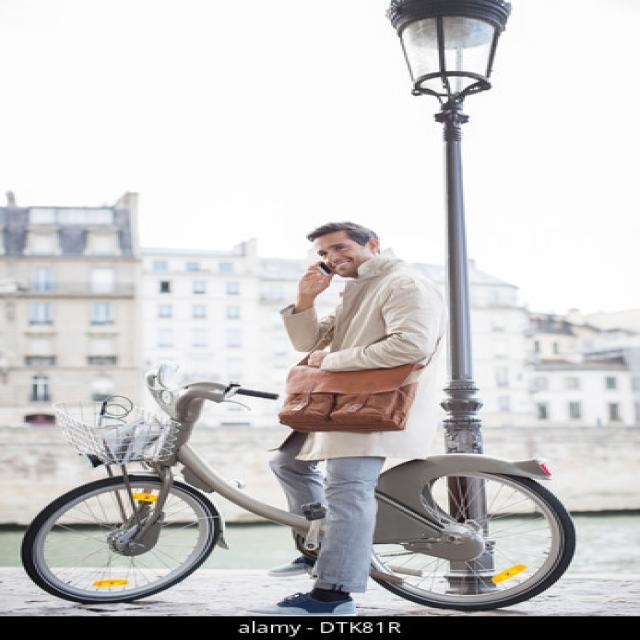Using mobile: (282, 214, 416, 348)
